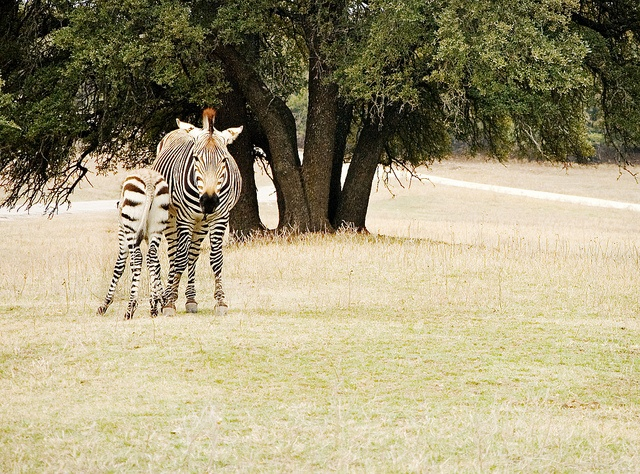zebra: (196, 211, 288, 415), (132, 241, 204, 394)
